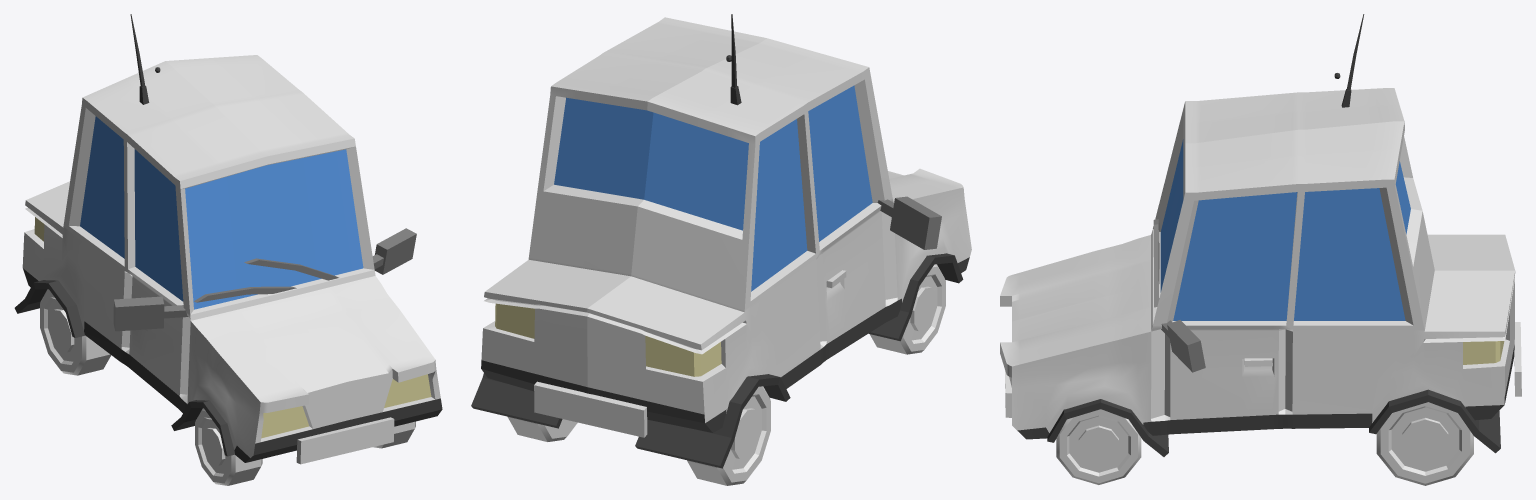
Rendered from SM_voiture.fbx.
3 renders of one model, left to right at view 1: azimuth 30°, elevation 25°; view 2: azimuth 150°, elevation 25°; view 3: azimuth 270°, elevation 25°, orthographic. The views are drawn at different scales.
Parts seen in each view (by area): view 1: pCylinder82; view 2: pCylinder82; view 3: pCylinder82.
Part boxes in pixels (<box>): pCylinder82: <box>14,14,442,485</box>; pCylinder82: <box>471,14,971,485</box>; pCylinder82: <box>1000,14,1521,485</box>.
Bounding box in the file's own units: 5.59 × 6.58 × 7.82.
